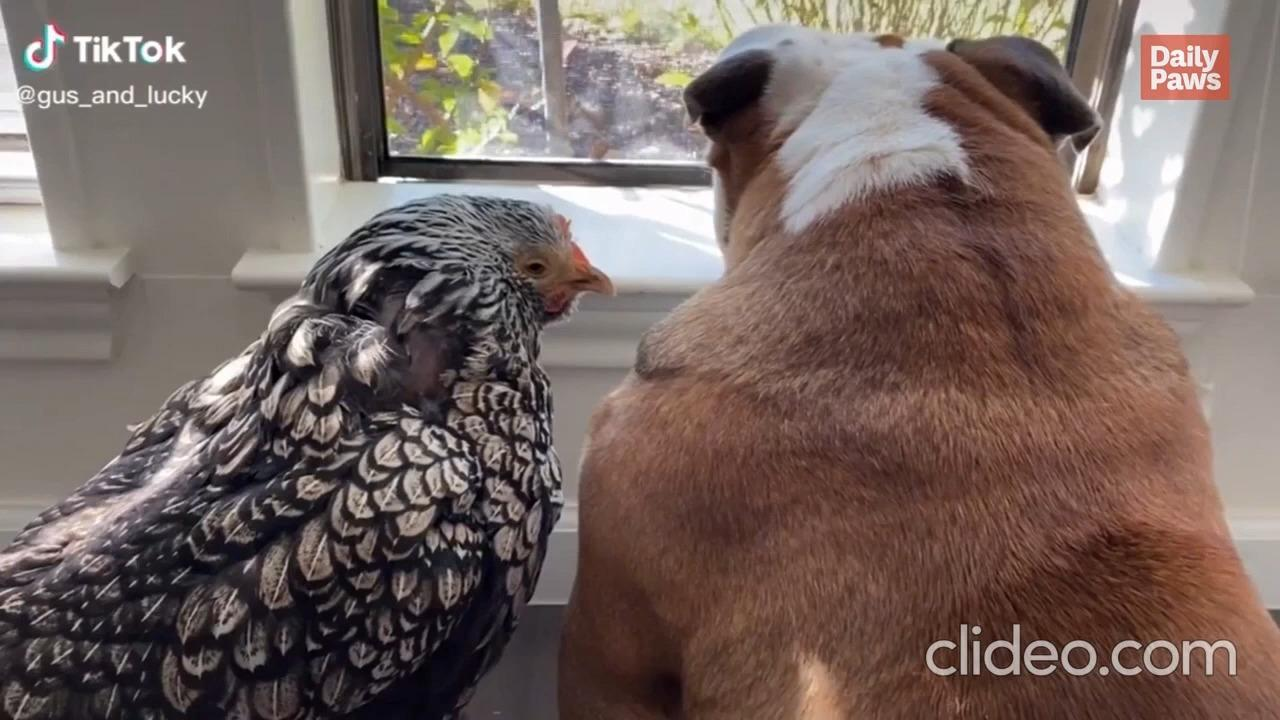Normal: (35, 193, 620, 654)
